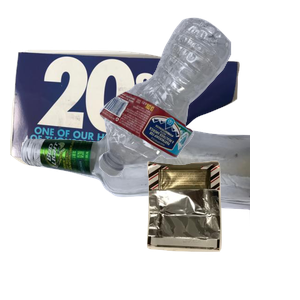glass: (18, 124, 258, 300)
paper: (10, 41, 242, 207)
plastic: (96, 15, 300, 184)
trash: (144, 158, 300, 300)
